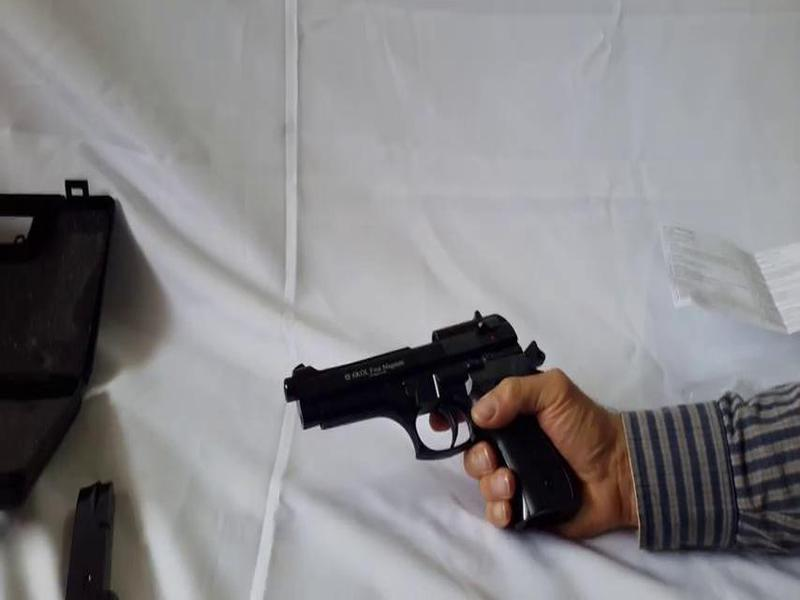Pistola: (278, 314, 577, 532)
